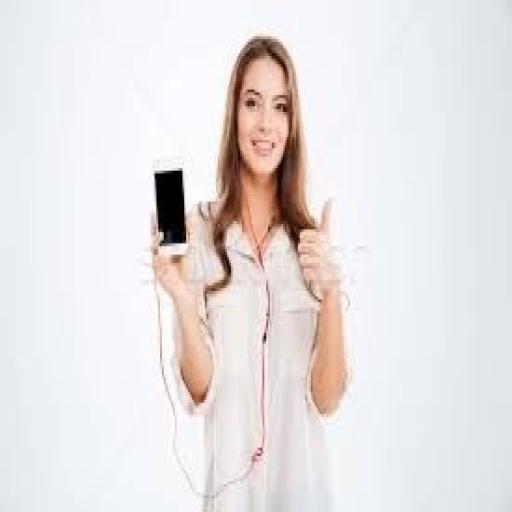listening_to_music: (147, 31, 354, 509)
